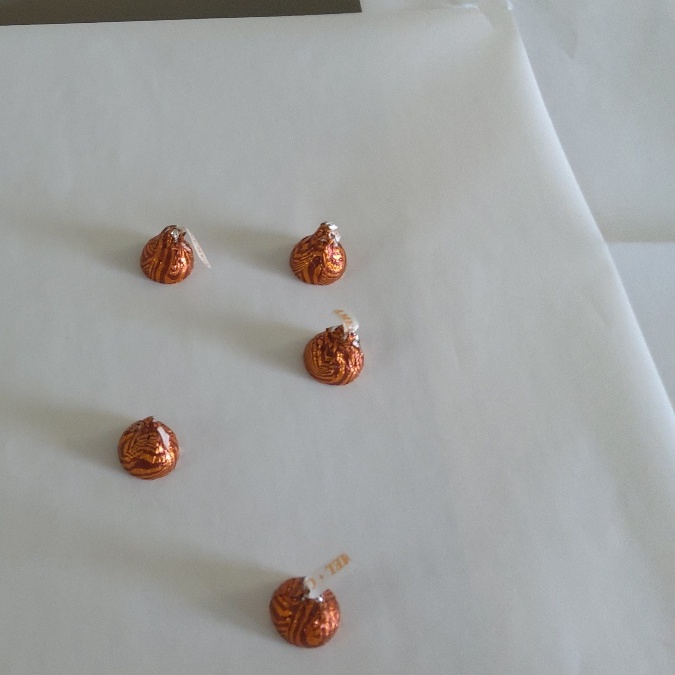chocolate_gold: (270, 573, 342, 649), (287, 222, 351, 290), (301, 320, 365, 388), (134, 220, 198, 288), (115, 412, 179, 480)
